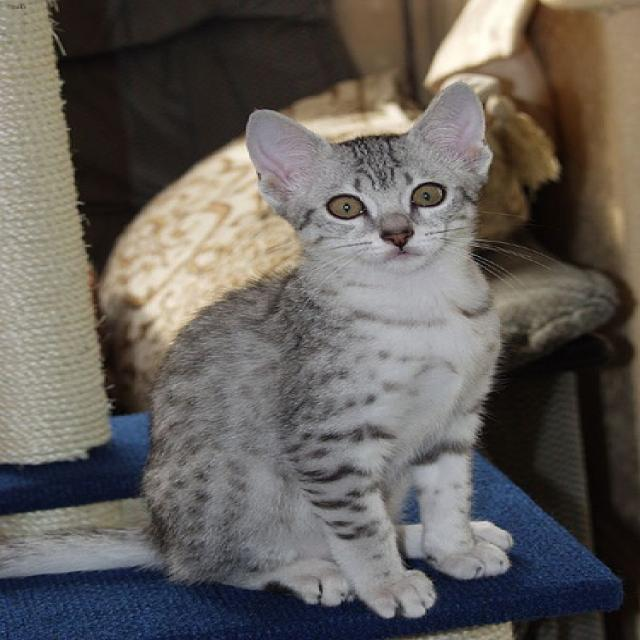Egyptian_Mau: (239, 76, 499, 277)
